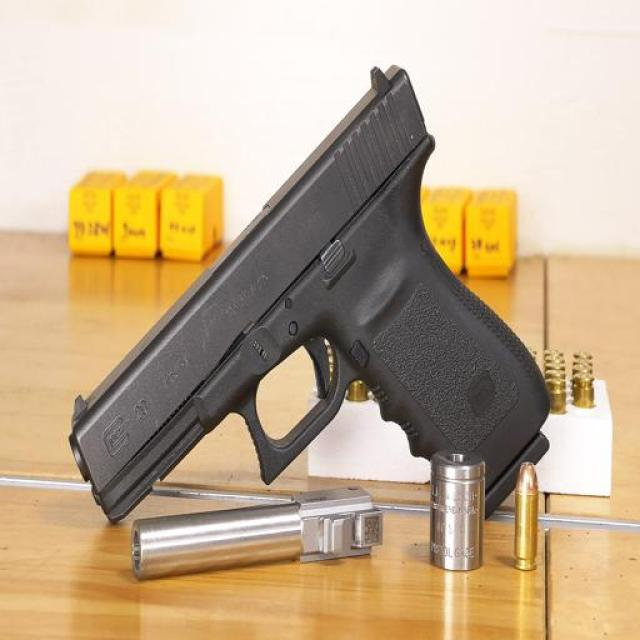pistol: (50, 61, 551, 516)
